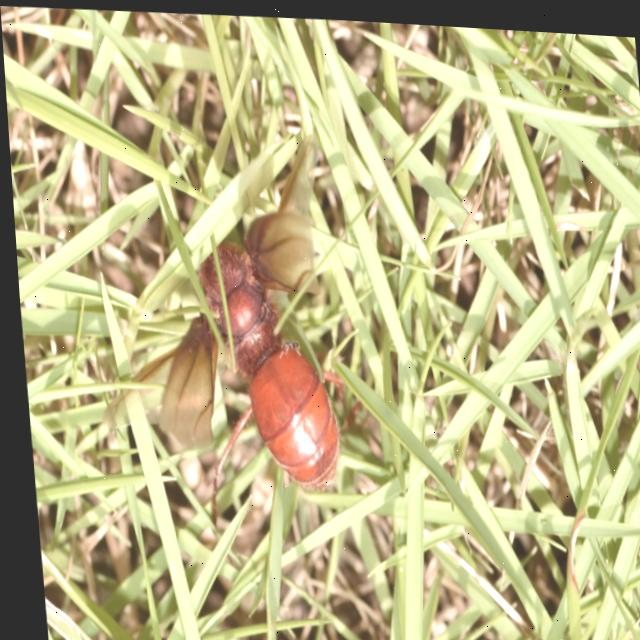Alive-Male-Alate: (73, 116, 352, 535)
